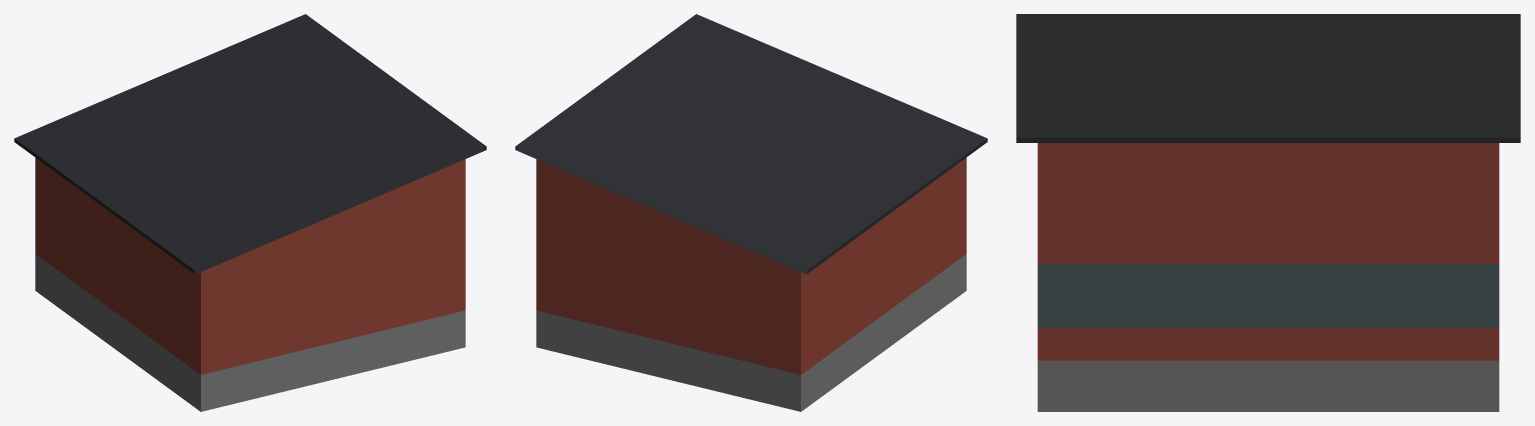
Rendered from mashup-hut_red-far.fbx.
The picture shows the model from 3 angles, left to right: view 1: azimuth 30°, elevation 25°; view 2: azimuth 150°, elevation 25°; view 3: azimuth 270°, elevation 25°; orthographic projection. The views are drawn at different scales.
Visible parts, largest first — view 1: a2015.hut_red.far; view 2: a2015.hut_red.far; view 3: a2015.hut_red.far.
Part boxes in pixels (x1,y1,x2,y2): a2015.hut_red.far: (14, 14, 486, 411); a2015.hut_red.far: (515, 14, 987, 411); a2015.hut_red.far: (1016, 14, 1520, 411).
Bounding box in the file's own units: 6.6 × 4.4 × 7.1.
